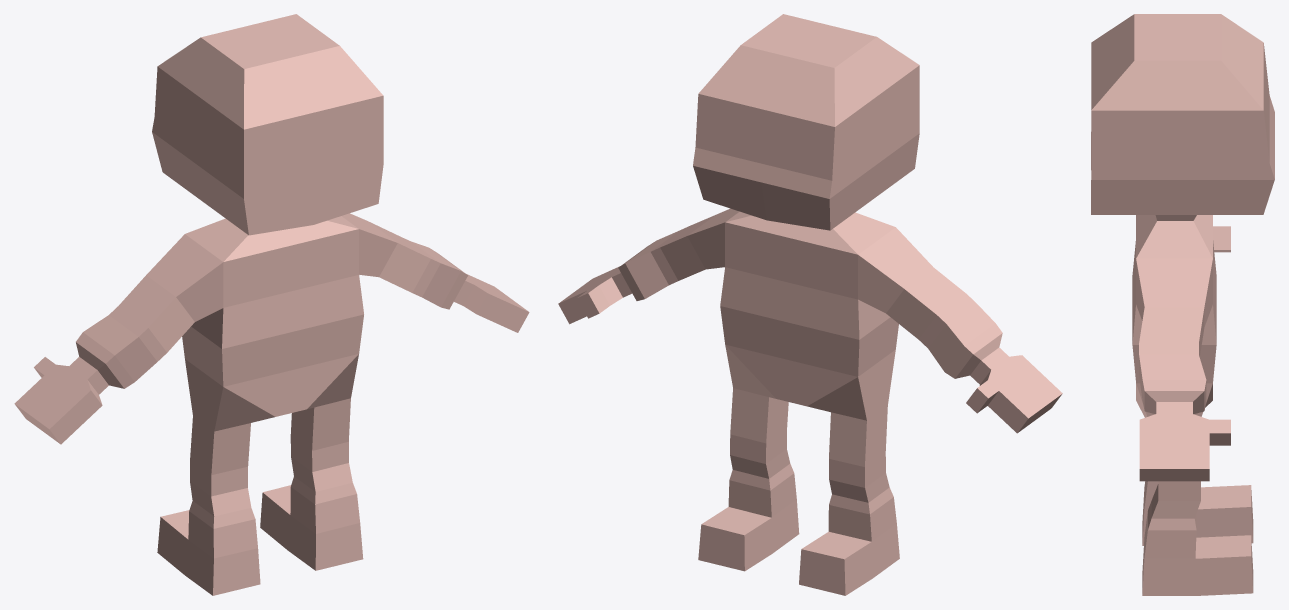
The model's file is ludz.fbx.
The picture shows the model from 3 angles, left to right: view 1: azimuth 30°, elevation 25°; view 2: azimuth 150°, elevation 25°; view 3: azimuth 270°, elevation 25°; orthographic projection. The views are drawn at different scales.
Visible parts, largest first — view 1: Cube; view 2: Cube; view 3: Cube.
Part boxes in pixels (x1,y1,x2,y2): Cube: [14, 14, 529, 595]; Cube: [558, 14, 1062, 595]; Cube: [1091, 14, 1274, 595].
Size of the model in its own units: 212 by 221 by 70.36.
